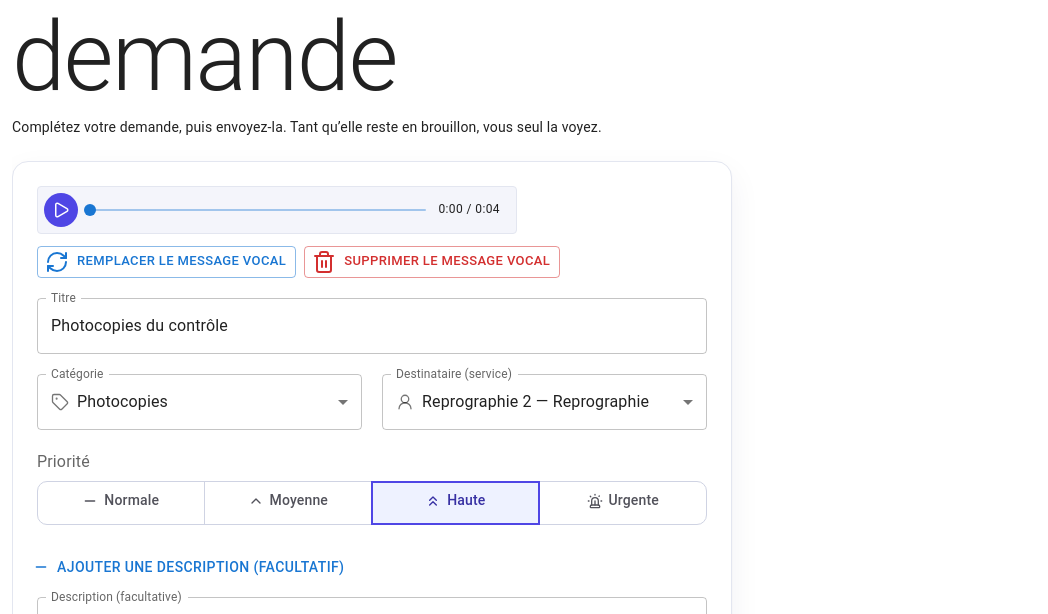
Test: page brouillon (US2) › « Enregistrer le brouillon » n’envoie que les champs changés
The image size is (1048, 614).
Replace the text in the field labelled "Titre" with "Nouveau titre": (372, 326) [37,298,707,354]
(page scrolled)
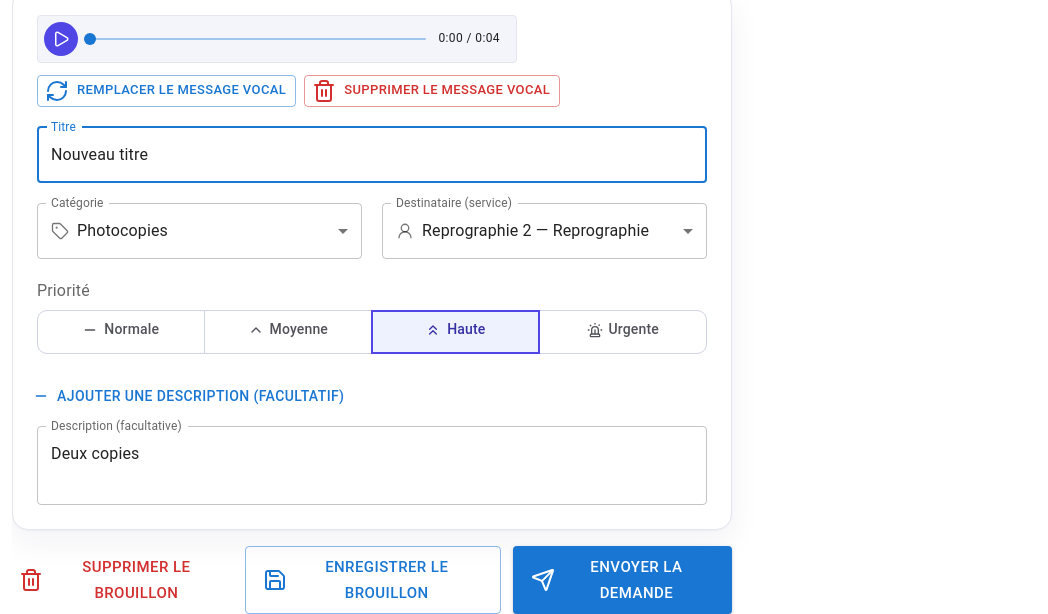
Click the button "Enregistrer le brouillon": (373, 580) [245,546,501,613]
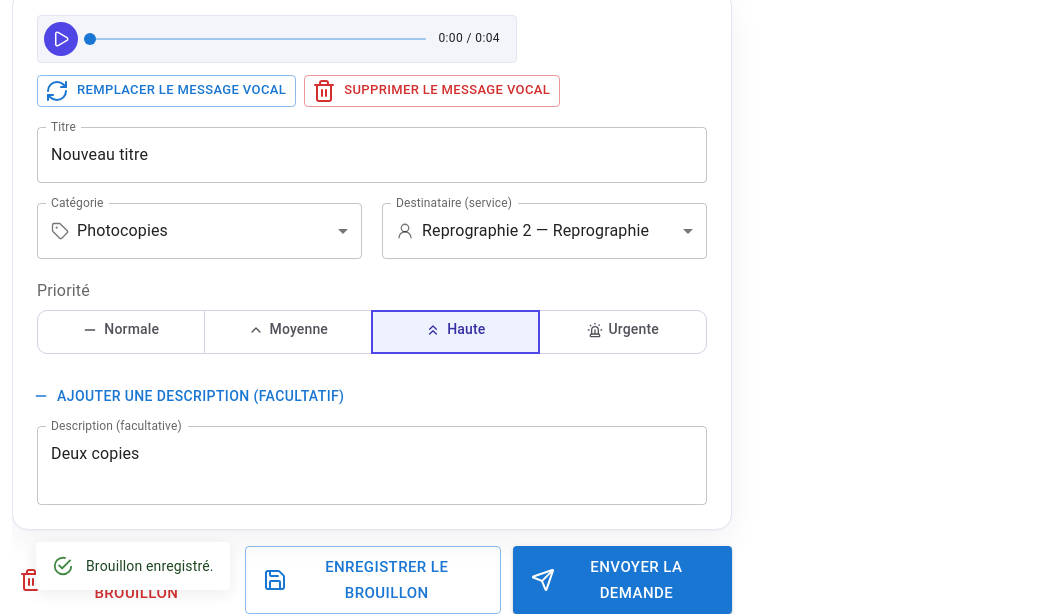
expect the text "Brouillon enregistré." is shown: met, box [86,558,214,574]
